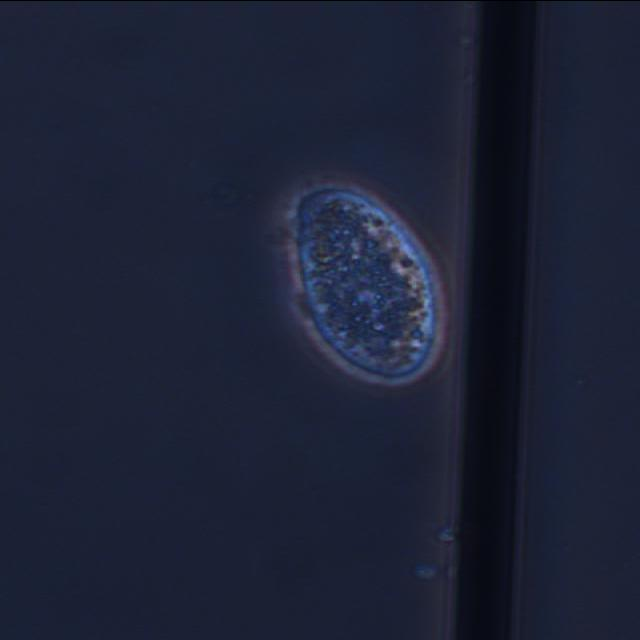Cell: (285, 175, 450, 389)
